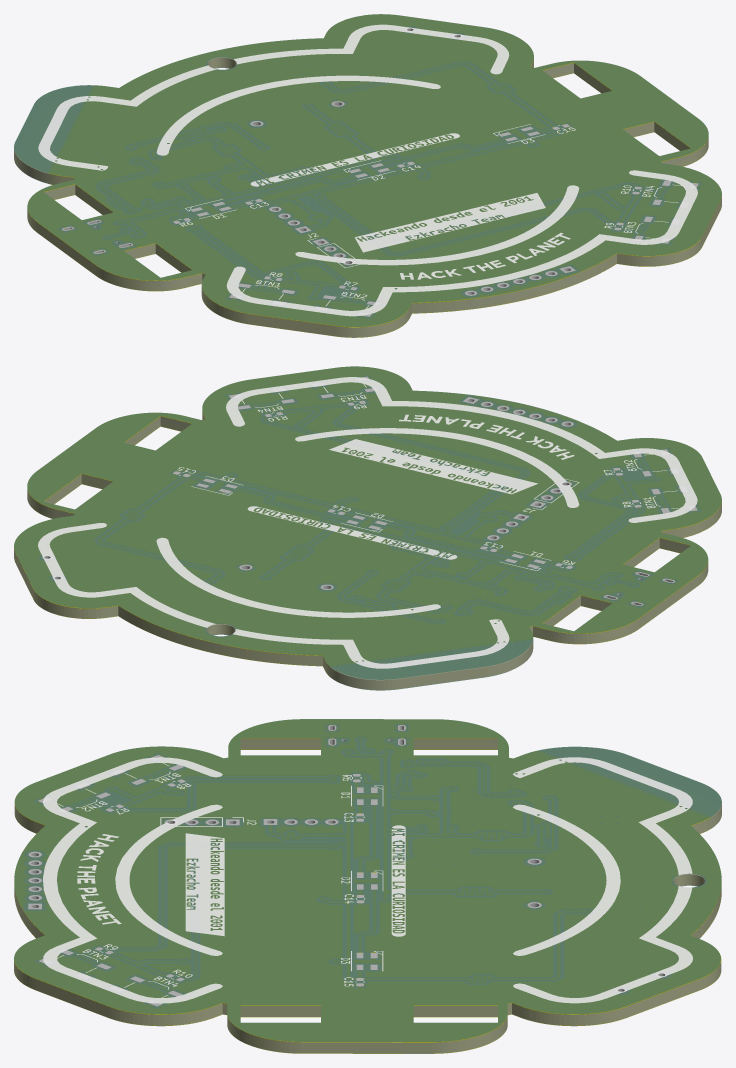
The model's file is ekoparty-2023-electronic-badge.glb.
The picture shows the model from 3 angles, top to bottom: view 1: azimuth 30°, elevation 25°; view 2: azimuth 150°, elevation 25°; view 3: azimuth 270°, elevation 25°; orthographic projection. The views are drawn at different scales.
Visible parts, largest first — view 1: =>[0:1:1:7], =>[0:1:1:2], =>[0:1:1:9], =>[0:1:1:5]; view 2: =>[0:1:1:7], =>[0:1:1:2], =>[0:1:1:9], =>[0:1:1:5]; view 3: =>[0:1:1:7], =>[0:1:1:2], =>[0:1:1:9], =>[0:1:1:5].
Boxes of the visible parts, x1,y1,x2,y2 form: =>[0:1:1:7]: (14, 14, 721, 337); =>[0:1:1:2]: (27, 15, 721, 337); =>[0:1:1:9]: (14, 27, 721, 337); =>[0:1:1:5]: (38, 24, 697, 316); =>[0:1:1:7]: (14, 366, 721, 690); =>[0:1:1:2]: (14, 367, 721, 676); =>[0:1:1:9]: (14, 376, 721, 690); =>[0:1:1:5]: (38, 377, 697, 668); =>[0:1:1:7]: (14, 719, 721, 1053); =>[0:1:1:2]: (14, 720, 721, 1053); =>[0:1:1:9]: (14, 724, 721, 1053); =>[0:1:1:5]: (43, 757, 692, 1003).
Size of the model in its own units: 0.095 by 0.00166 by 0.088.
Materials: 4 (4 with a texture image).
